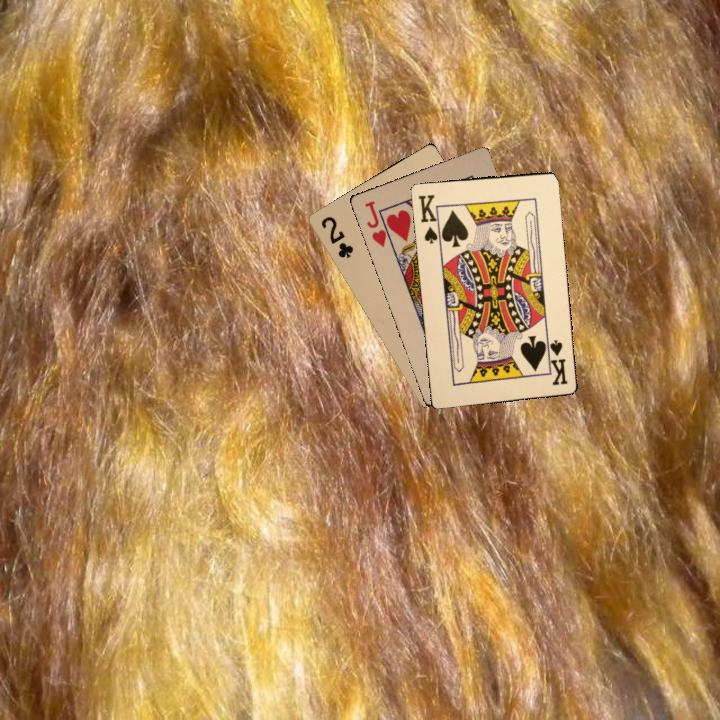2c: (317, 212, 356, 261)
Jh: (361, 197, 395, 250)
Ks: (414, 191, 444, 244), (543, 334, 570, 388)
